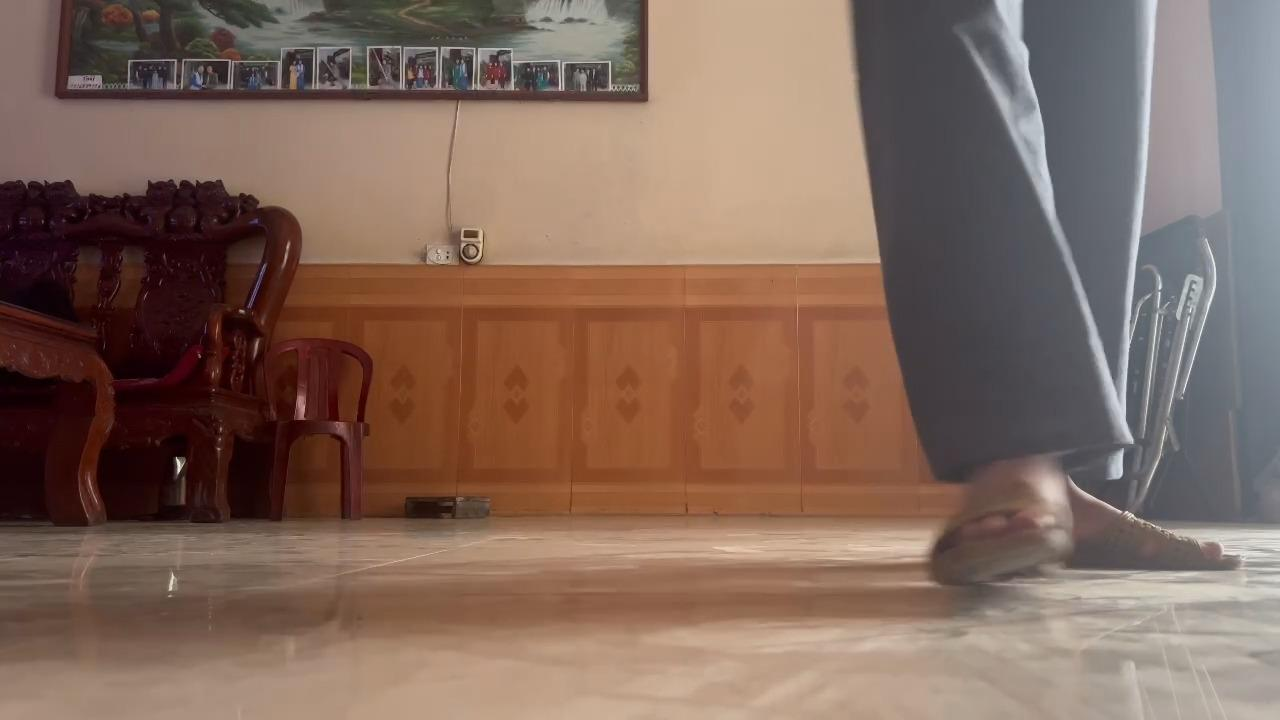no-boot: (913, 463, 1077, 598), (1082, 479, 1241, 584)
